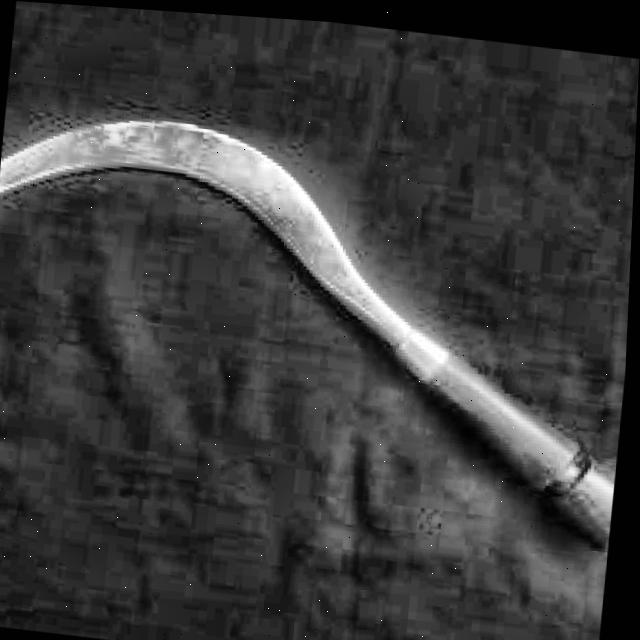celurit: (0, 106, 613, 563)
